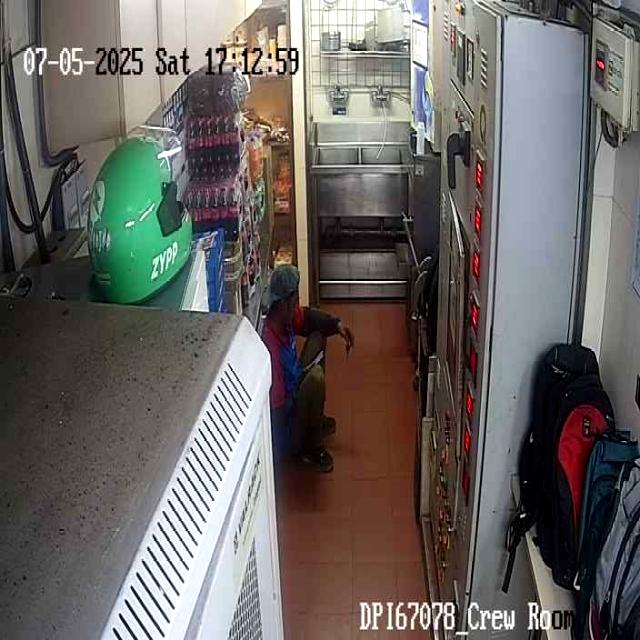helmet: (85, 124, 199, 306)
